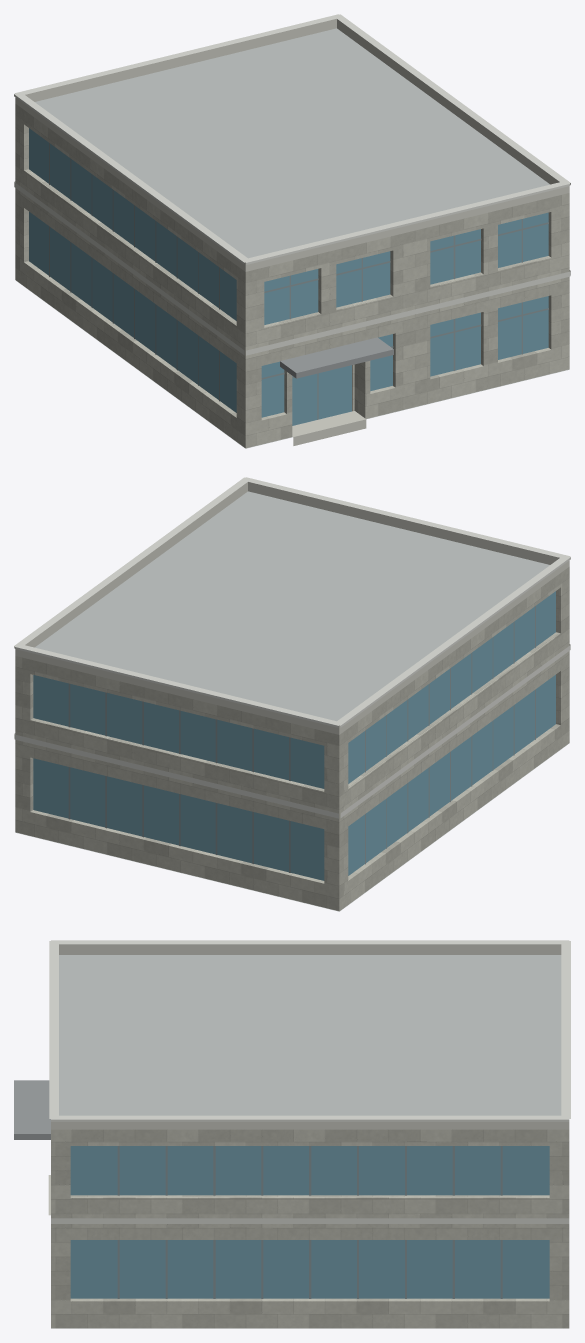
The picture shows the model from 3 angles, top to bottom: view 1: azimuth 30°, elevation 25°; view 2: azimuth 150°, elevation 25°; view 3: azimuth 270°, elevation 25°; orthographic projection. The views are drawn at different scales.
Visible parts, largest first — view 1: unist-batch-osm478771503__parapet, osm478771503__wall, osm478771503__glass, osm478771503__trim, osm478771503__frame, osm478771503__canopy, osm478771503__entranceThreshold_0; view 2: unist-batch-osm478771503__parapet, osm478771503__wall, osm478771503__glass, osm478771503__trim, osm478771503__frame; view 3: unist-batch-osm478771503__parapet, osm478771503__glass, osm478771503__wall, osm478771503__trim, osm478771503__frame, osm478771503__canopy.
Part boxes in pixels (x1,y1,x2,y2): unist-batch-osm478771503__parapet: (15,18,569,448); osm478771503__wall: (15,104,569,448); osm478771503__glass: (29,128,548,425); osm478771503__trim: (14,14,570,355); osm478771503__frame: (49,143,548,419); osm478771503__canopy: (280,337,393,378); osm478771503__entranceThreshold_0: (292,411,366,445); unist-batch-osm478771503__parapet: (15,482,569,911); osm478771503__wall: (15,566,569,911); osm478771503__glass: (33,591,555,880); osm478771503__trim: (14,477,570,818); osm478771503__frame: (68,606,535,872); unist-batch-osm478771503__parapet: (51,944,569,1328); osm478771503__glass: (70,1146,549,1298); osm478771503__wall: (51,1129,569,1328); osm478771503__trim: (49,940,570,1223); osm478771503__frame: (117,1146,502,1298); osm478771503__canopy: (14,1080,50,1139).
Bounding box in the file's own units: 16.08 × 9.15 × 21.1.
7 materials, 1 textured.
